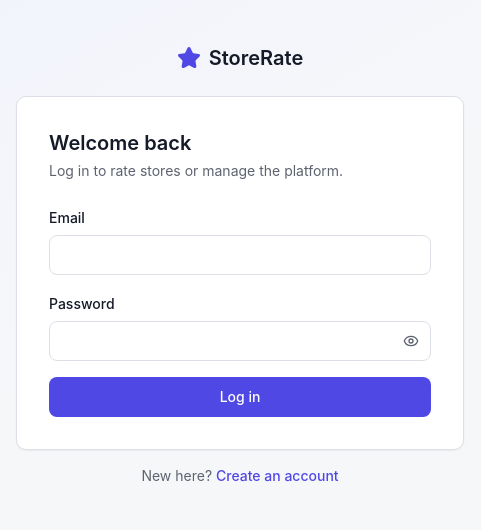
Test: LoginPage › submits credentials and displays server errors
Type "a@b.co" into the field labelled "Email" at {"x": 240, "y": 255}, box [49,235,431,275]
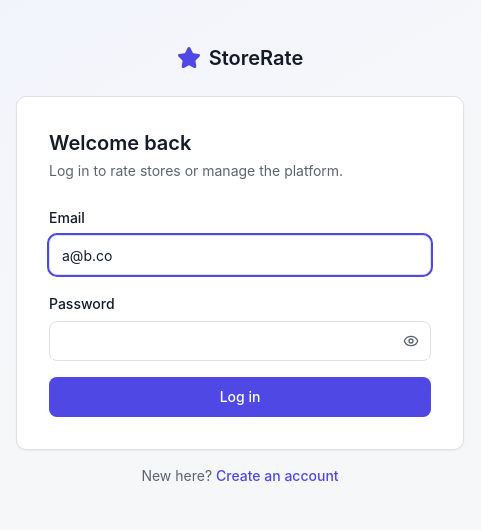
Type "Whatever@1" into the password field labelled "Password" at {"x": 240, "y": 341}, box [49,321,431,361]
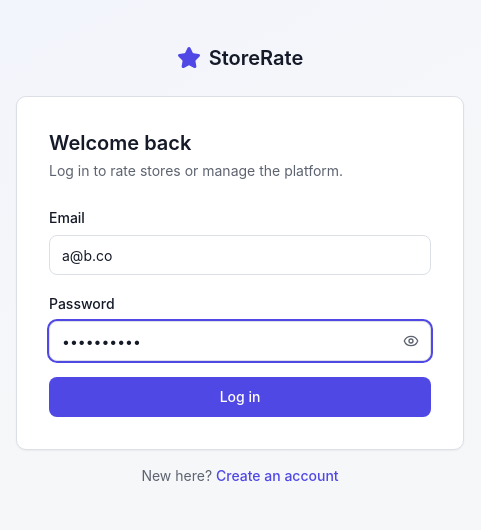
Click the button "Log in" at {"x": 240, "y": 397}, box [49,377,431,417]
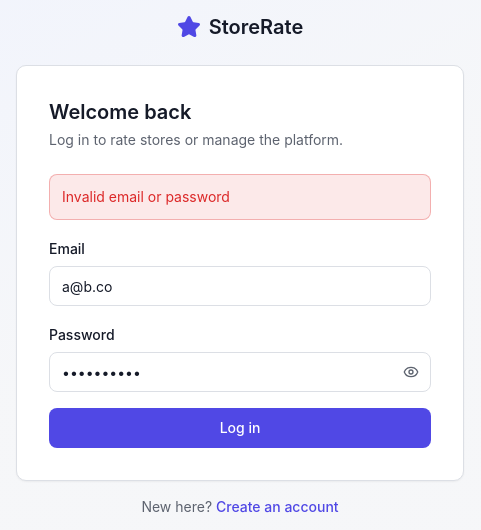
Result: the message reads "Invalid email or password" at [62,188,230,205]
